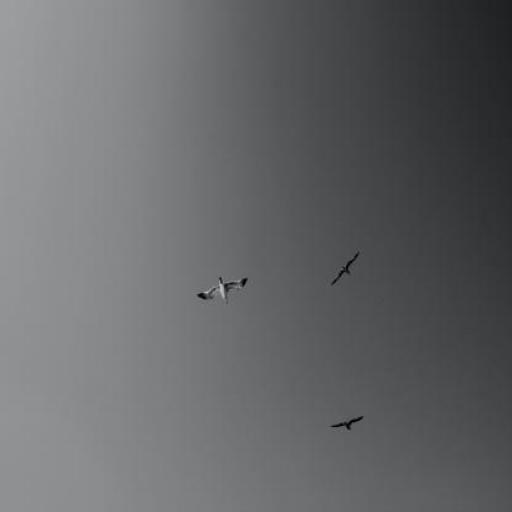bird: (198, 277, 249, 306), (331, 251, 361, 287), (330, 416, 364, 432)
